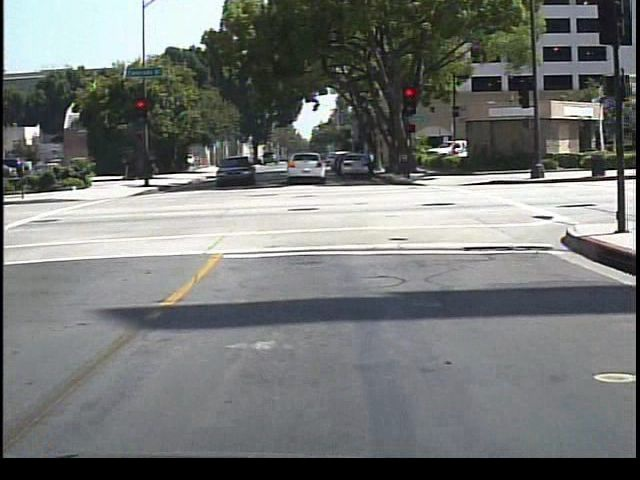person: (361, 144, 382, 185)
